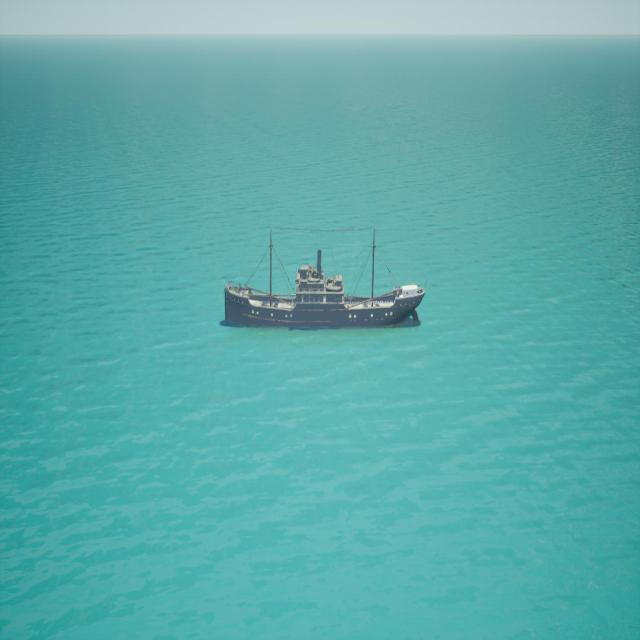fishing ship: (225, 227, 425, 330)
